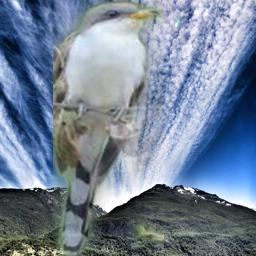Cuckoo: (53, 0, 164, 256)
